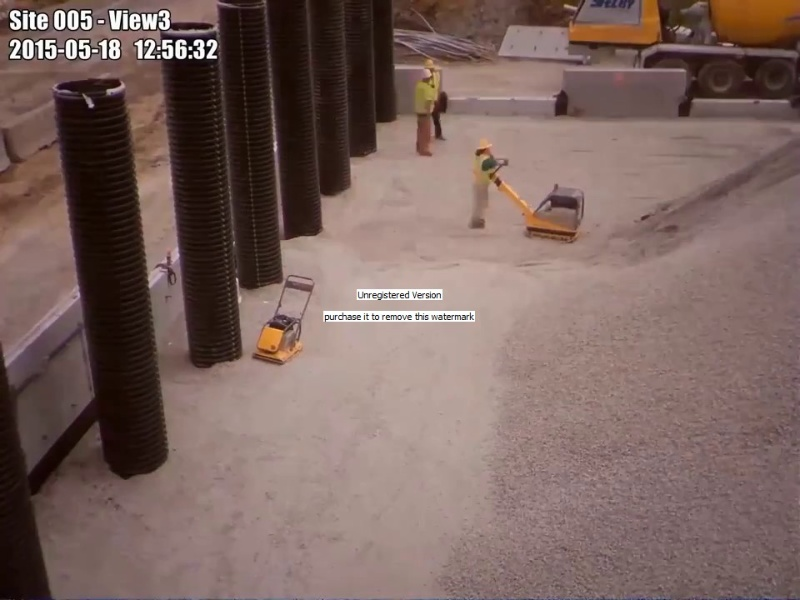cementtruck: (565, 1, 800, 101)
columns: (51, 77, 172, 480), (157, 20, 246, 369), (217, 1, 284, 287), (264, 1, 324, 242), (304, 1, 353, 198), (345, 1, 378, 158), (368, 1, 398, 124)
hardhat: (422, 58, 439, 69), (478, 140, 492, 149), (421, 69, 433, 79)
person: (469, 139, 497, 230), (415, 69, 435, 156)
wall: (451, 69, 800, 118)
